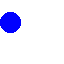circle: (0, 12, 20, 32)
